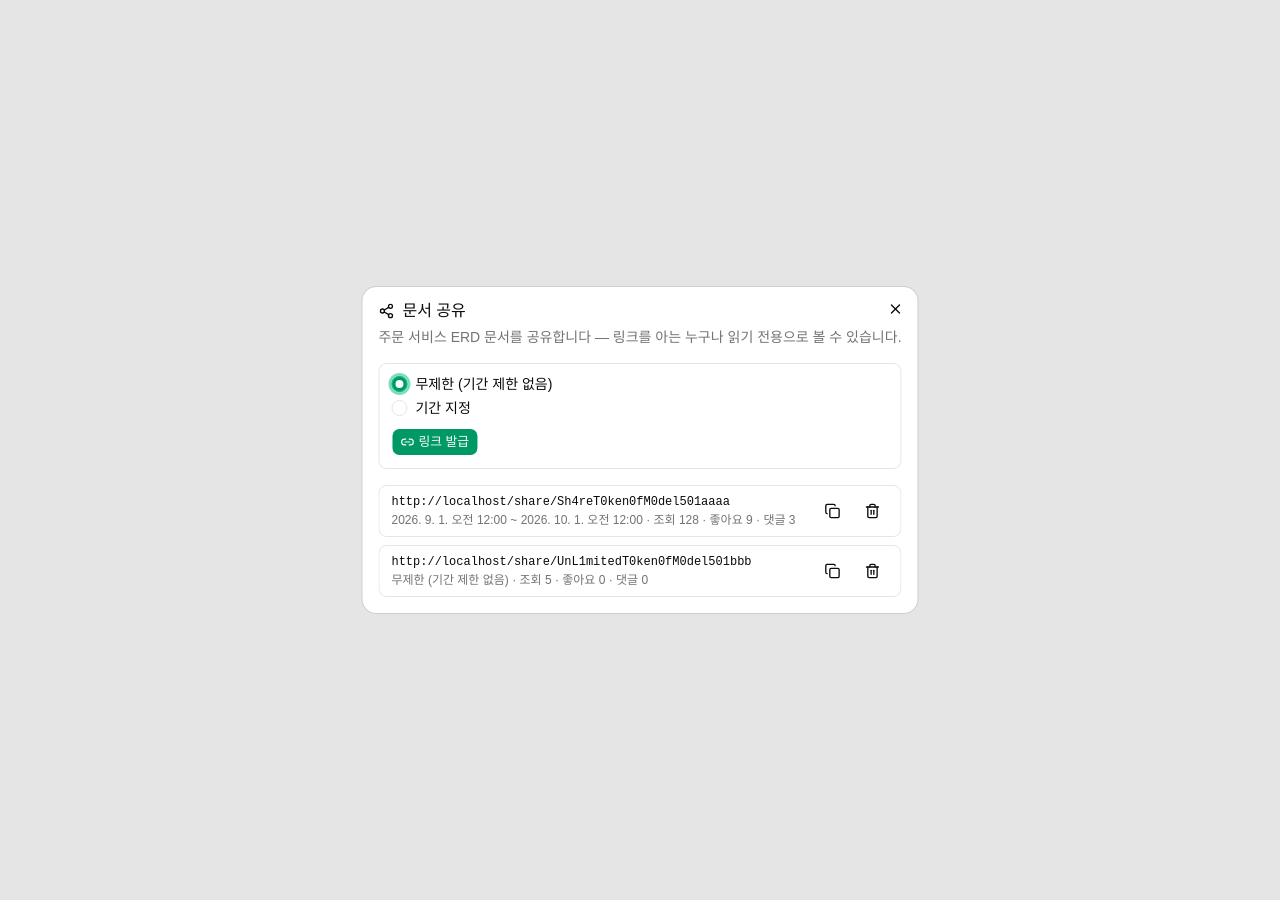
ShareDialog — 복사·철회 › revokes a link and toasts success
Click the button named "철회" next to "조회 128 · 좋아요 9 · 댓글 3".
click(872, 511)  # box [856,495,888,527]
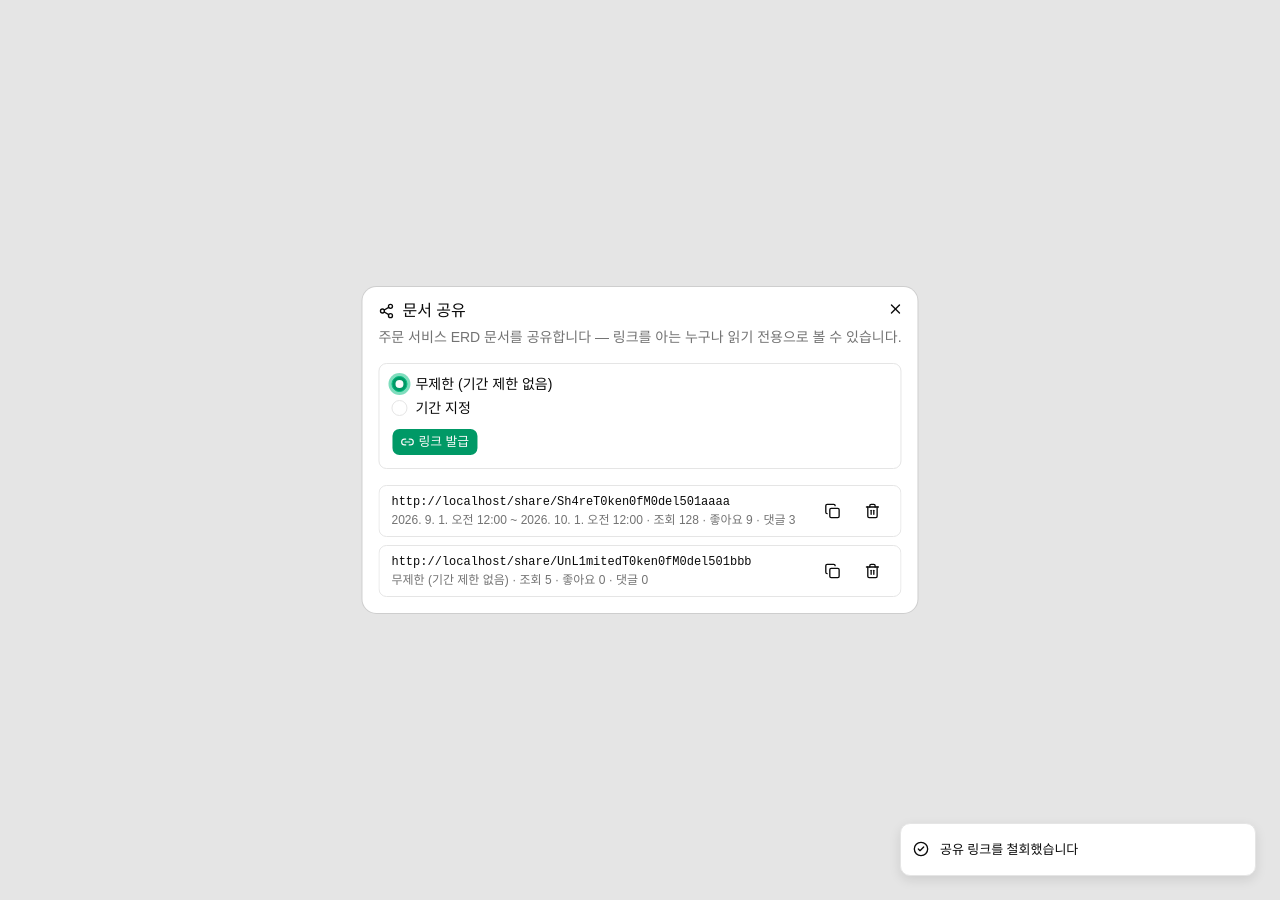
Check: the text "공유 링크를 철회했습니다" is shown, box [940,840,1078,859]
